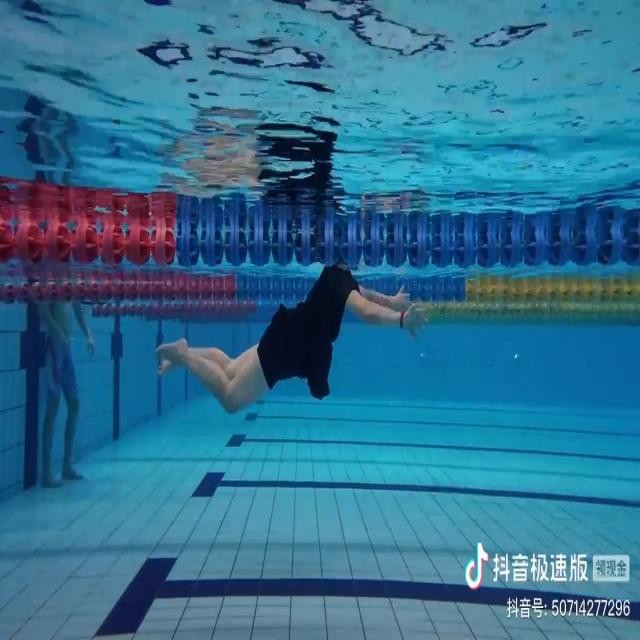Swimming: (156, 267, 432, 417)
